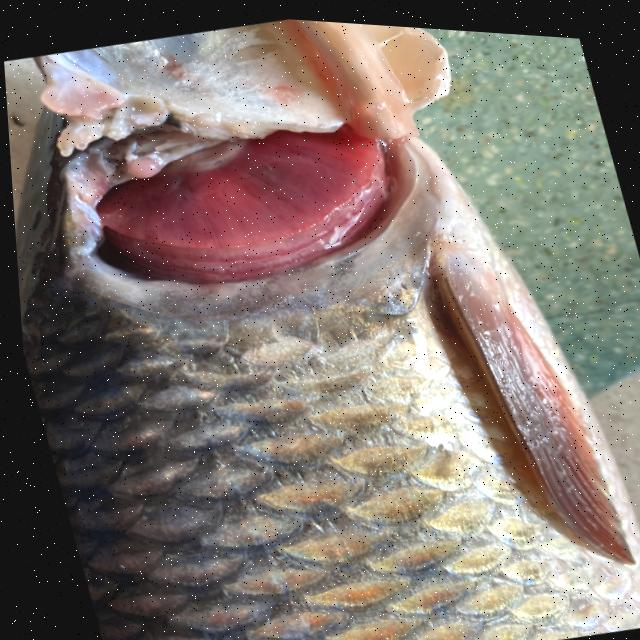Fresh: (13, 243, 598, 640), (21, 49, 478, 337)
